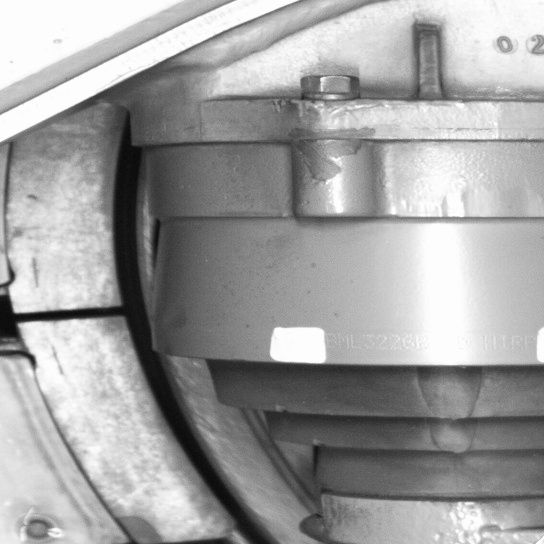KnifeSwitch: (26, 141, 286, 541)
